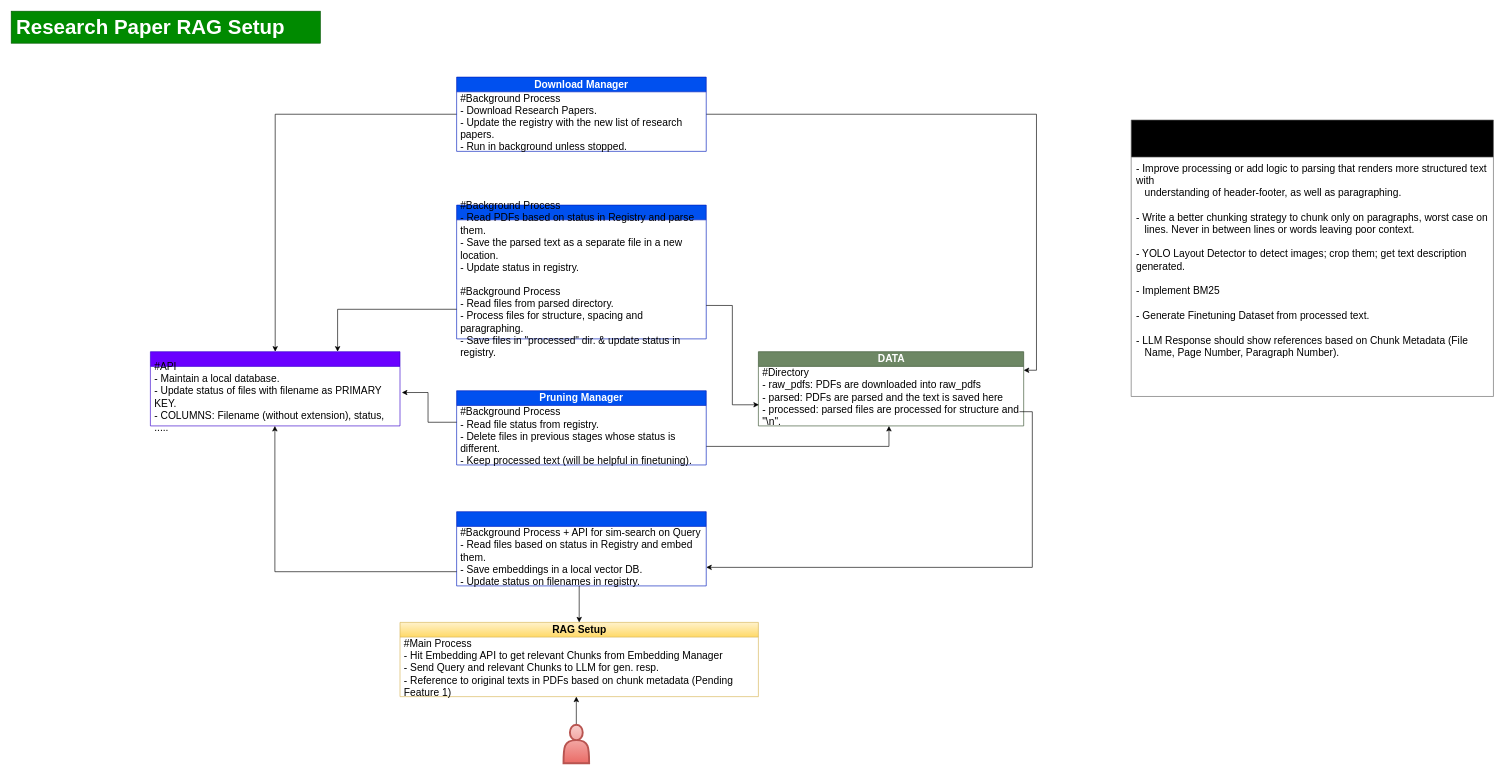
The diagram is 1505 pixels wide and 775 high, and some of its shapes have lost their labels. The shapes that lost their labels are listed below. From the top down, each one's box as (x1, y1, x2, y2) in pixels, then its label:
(456, 204, 706, 339): Parse Manager
(150, 351, 400, 426): Registry Manager
(456, 511, 706, 586): Embedding Manager
